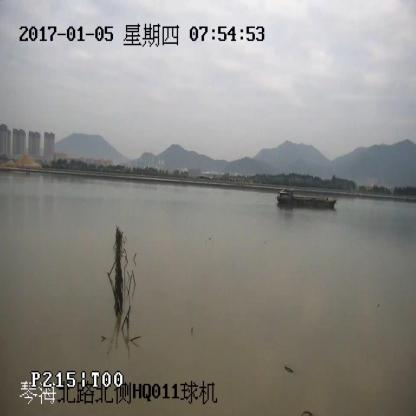Bulk Carrier: (276, 189, 337, 209)
